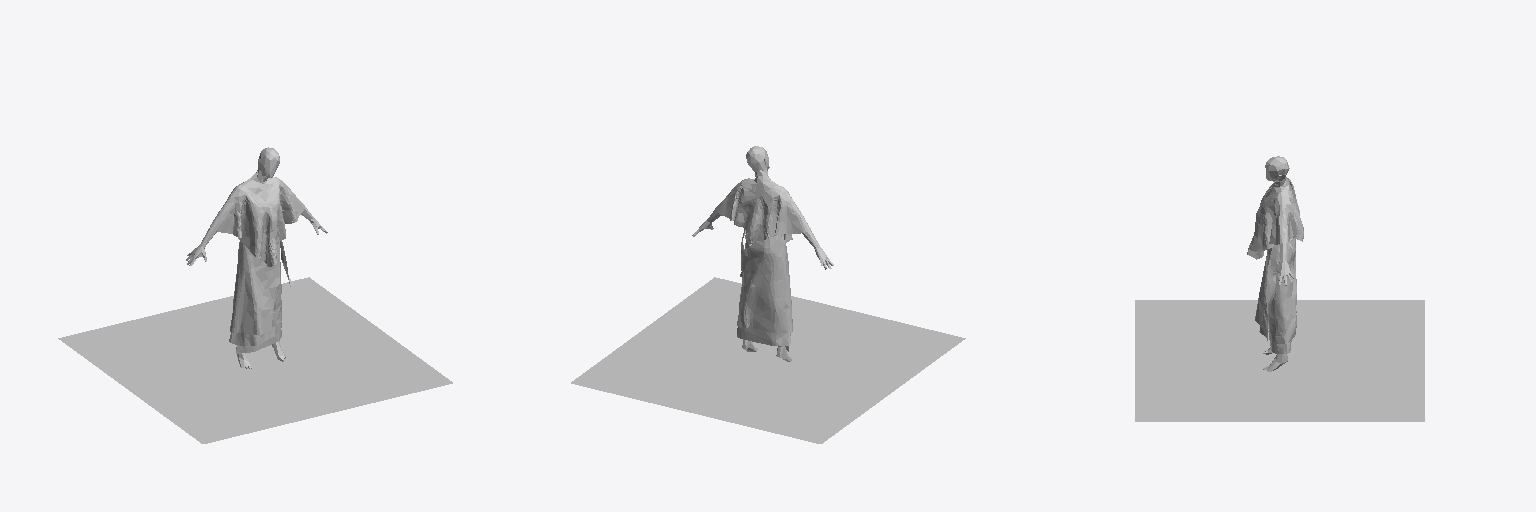
The model's file is wave7.obj.
3 renders of one model, left to right at view 1: azimuth 30°, elevation 25°; view 2: azimuth 150°, elevation 25°; view 3: azimuth 270°, elevation 25°, orthographic.
Parts seen in each view (by area): view 1: Plane, TrajeTipico, Maniqui; view 2: Plane, TrajeTipico, Maniqui; view 3: Plane, TrajeTipico, Maniqui.
Part boxes in pixels (x1,y1,x2,y2): Plane: (58,277,452,443); TrajeTipico: (210,177,304,353); Maniqui: (186,147,327,368); Plane: (571,277,965,443); TrajeTipico: (715,178,810,351); Maniqui: (692,146,833,361); Plane: (1135,300,1424,421); TrajeTipico: (1247,177,1303,353); Maniqui: (1263,156,1294,371).
Size of the model in its own units: 235 by 188 by 235.